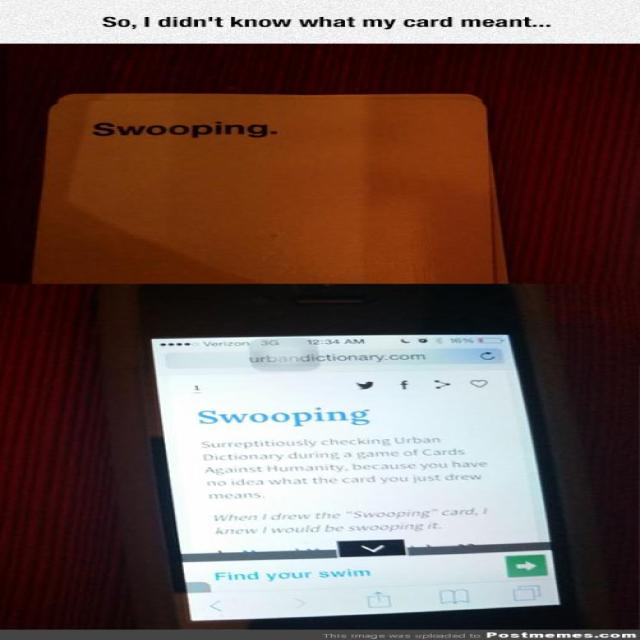Mobile-phone: (112, 254, 586, 625)
